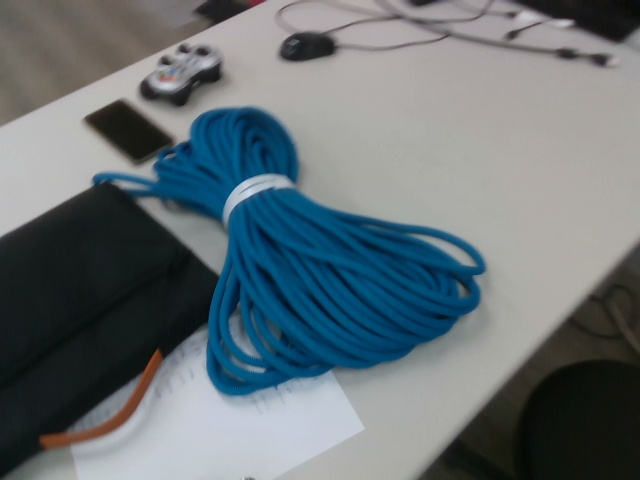rope: (89, 105, 489, 399)
